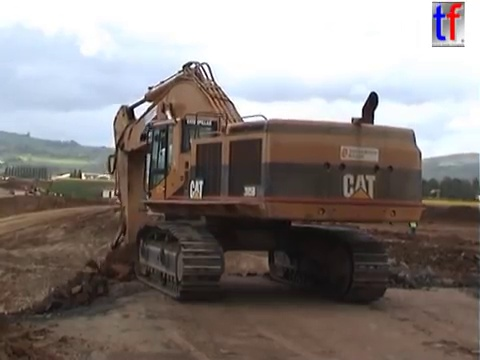excavator: (86, 57, 428, 306), (22, 178, 46, 199)
worker: (406, 211, 422, 237)
